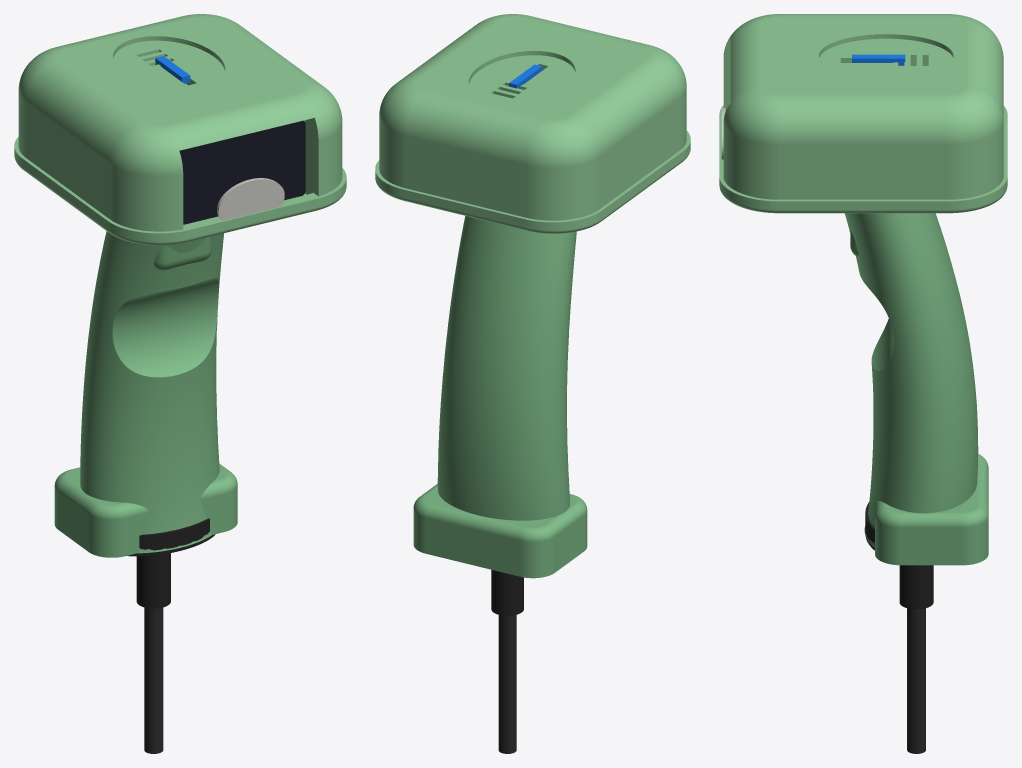
The model's file is scanner.glb.
3 renders of one model, left to right at view 1: azimuth 30°, elevation 25°; view 2: azimuth 150°, elevation 25°; view 3: azimuth 270°, elevation 25°, orthographic. The views are drawn at different scales.
Visible parts, largest first — view 1: scan_head, grip, scan_window, head_lip, usb_cable, brand_logo, cable_tube, cable_guard, trigger; view 2: scan_head, grip, head_lip, usb_cable, cable_tube; view 3: scan_head, grip, head_lip, usb_cable, cable_tube, led_indicator.
Boxes of the visible parts, x1,y1,x2,y2 form: scan_head: [18, 14, 342, 231]; grip: [54, 231, 237, 557]; scan_window: [179, 120, 305, 224]; head_lip: [14, 137, 346, 245]; usb_cable: [144, 607, 163, 753]; brand_logo: [217, 178, 284, 220]; cable_tube: [136, 553, 170, 608]; cable_guard: [127, 518, 215, 556]; trigger: [154, 236, 211, 270]; scan_head: [379, 14, 686, 220]; grip: [413, 216, 587, 578]; head_lip: [375, 130, 690, 233]; usb_cable: [498, 615, 516, 753]; cable_tube: [491, 570, 523, 615]; scan_head: [723, 14, 1003, 199]; grip: [845, 213, 988, 565]; head_lip: [719, 105, 1007, 213]; usb_cable: [907, 608, 925, 753]; cable_tube: [899, 565, 933, 609]; led_indicator: [852, 54, 905, 65].
Size of the model in its own units: 70 by 202 by 76.
